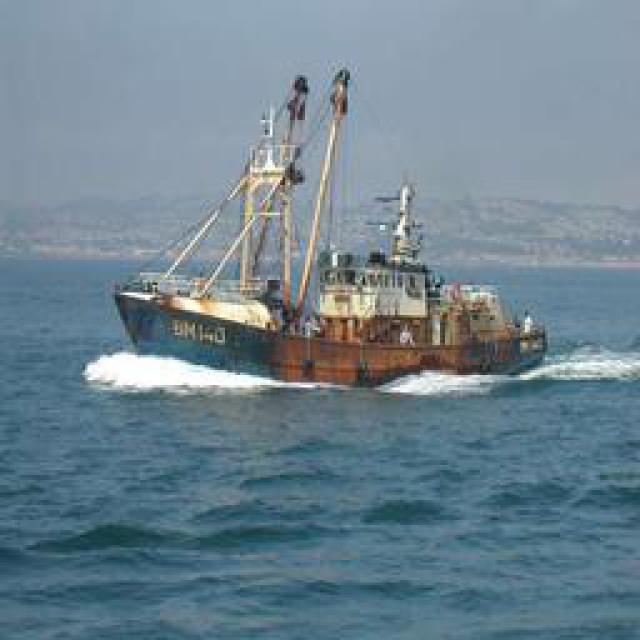Ship: (119, 58, 549, 386)
